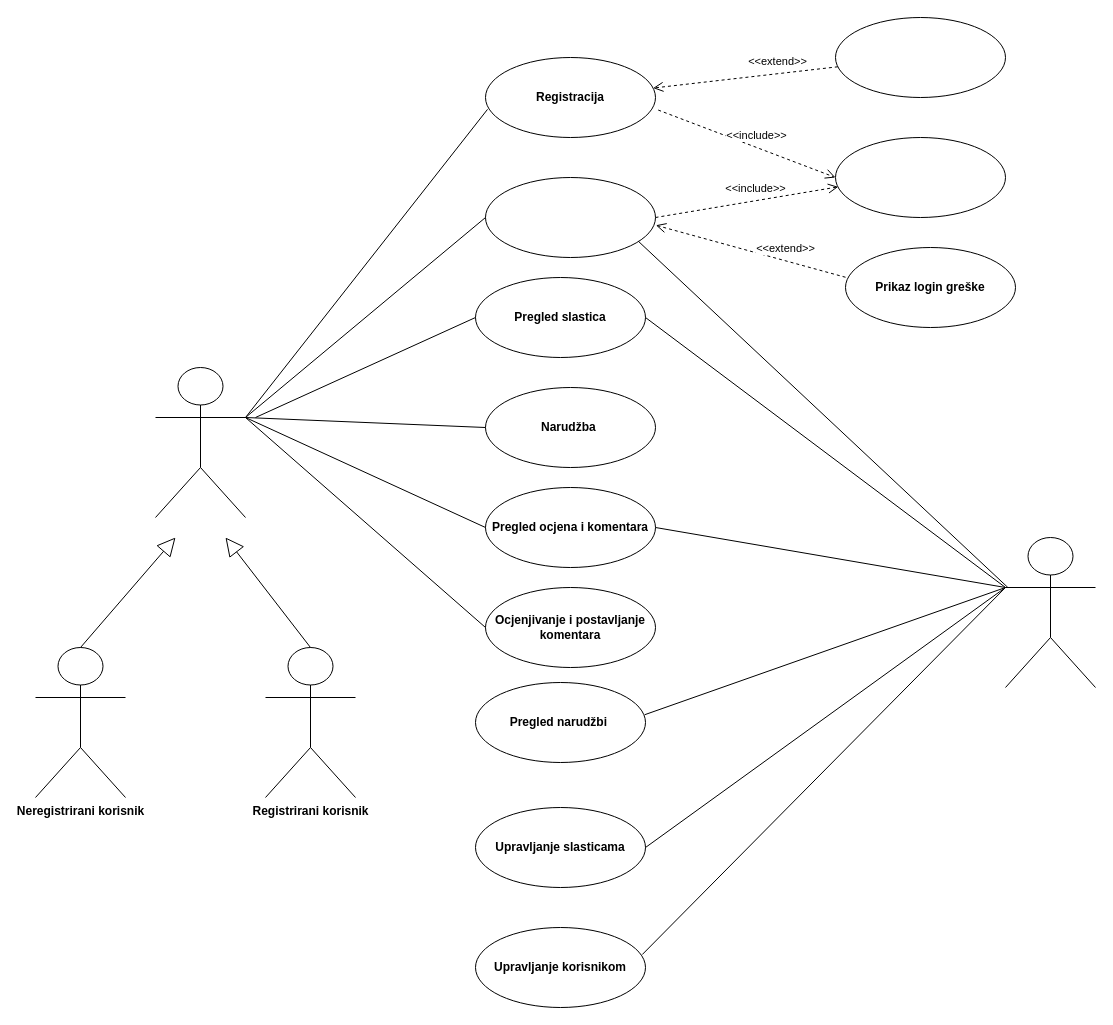
This 1113x1025 diagram has some shape labels left out. Each missing label, with the box of its shape:
Administrator: (1004, 536, 1096, 688)
Korisnik: (154, 366, 246, 518)
Prijava: (484, 176, 656, 258)
Prikaz register greške: (834, 16, 1006, 98)
Validacija podataka: (834, 136, 1006, 218)
